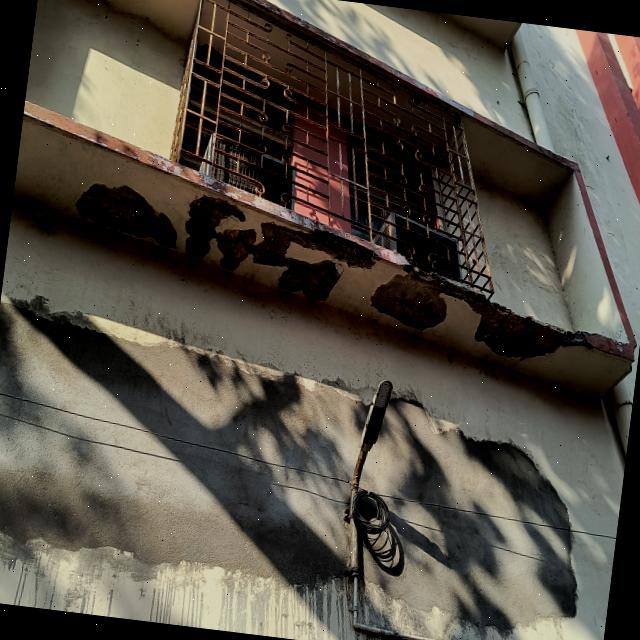Incomplete Plaster Work: (0, 295, 368, 585), (360, 398, 577, 640)
Spalling: (185, 196, 377, 300), (370, 264, 571, 359), (76, 183, 177, 248)
